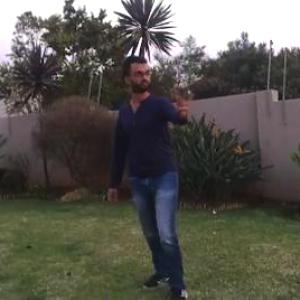takeoff-hand: (172, 79, 202, 120)
